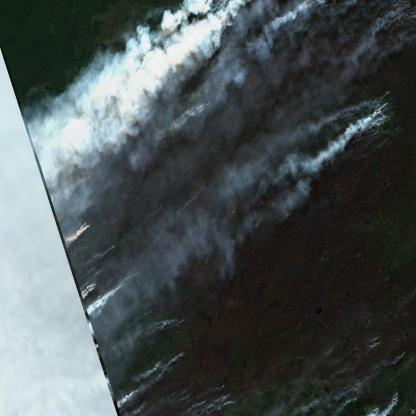fire: (86, 249, 116, 309), (375, 90, 394, 142), (385, 391, 403, 413), (75, 215, 93, 235), (397, 340, 410, 366), (346, 379, 368, 394), (198, 94, 213, 114), (325, 342, 341, 359), (374, 329, 386, 349), (176, 347, 189, 365), (190, 185, 200, 203)
